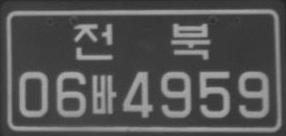0: (19, 70, 49, 117)
4: (123, 71, 152, 118)
5: (198, 70, 232, 118)
6: (56, 71, 87, 118)
9: (238, 69, 271, 119), (160, 69, 191, 117)
바: (90, 74, 117, 114)
전북_D: (73, 22, 211, 61)
